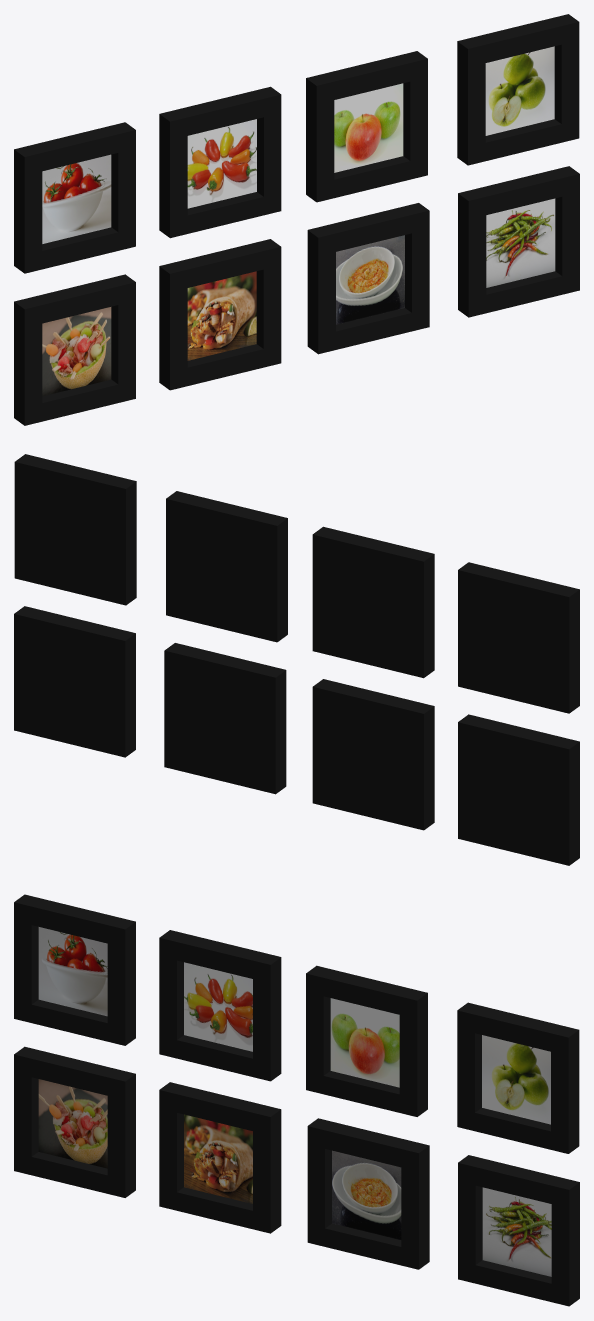
The model's file is Pictures.FBX.
3 views of the same model, one above another, from view 1: azimuth 30°, elevation 25°; view 2: azimuth 150°, elevation 25°; view 3: azimuth 330°, elevation 25° (orthographic).
Visible parts, largest first — view 1: Pictures; view 2: Pictures; view 3: Pictures.
Boxes of the visible parts, x1,y1,x2,y2 form: Pictures: [14, 14, 579, 425]; Pictures: [14, 454, 579, 865]; Pictures: [14, 894, 579, 1306].
Bounding box in the file's own units: 150 × 69.18 × 5.
1 material, 1 textured.
